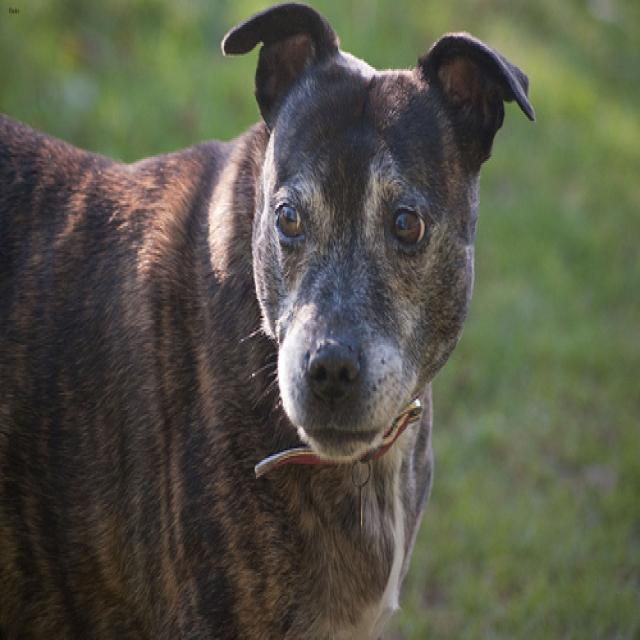dog-staffordshire_bull_terrier: (1, 2, 547, 636)
